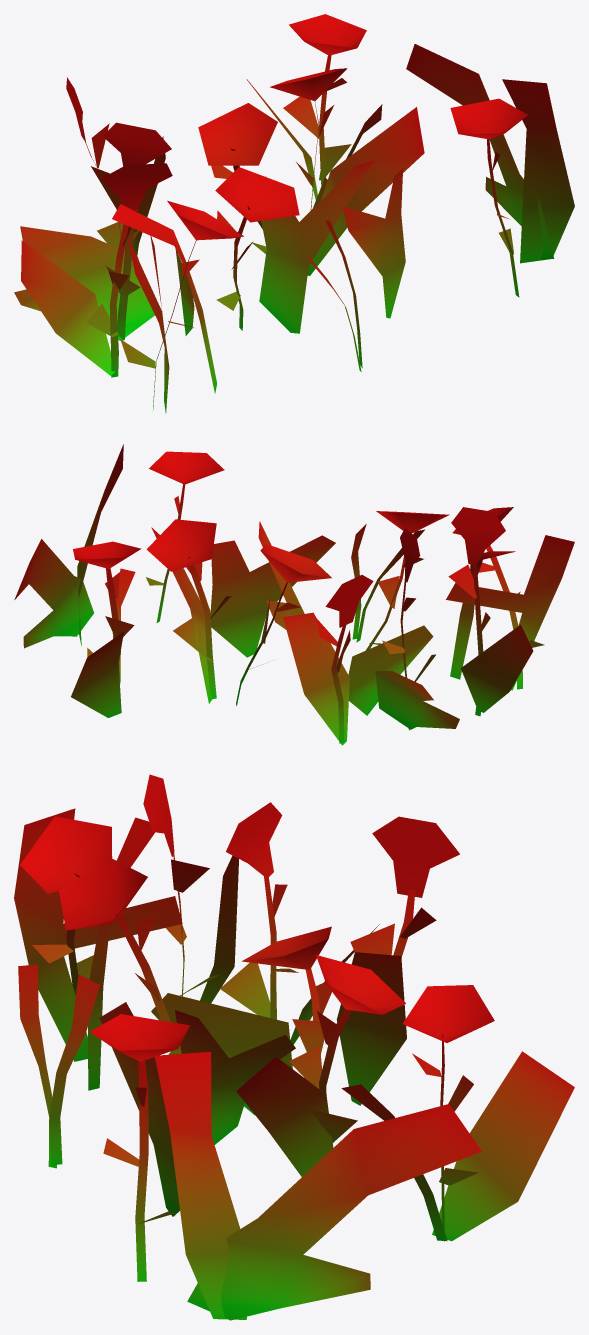
Rendered from Var9_LOD2.fbx.
3 renders of one model, top to bottom at view 1: azimuth 30°, elevation 25°; view 2: azimuth 150°, elevation 25°; view 3: azimuth 270°, elevation 25°, orthographic. The views are drawn at different scales.
Visible parts, largest first — view 1: _9d9f_Var9_LOD2; view 2: _9d9f_Var9_LOD2; view 3: _9d9f_Var9_LOD2.
Boxes of the visible parts, <box> form: _9d9f_Var9_LOD2: <box>14,14,574,413</box>; _9d9f_Var9_LOD2: <box>14,444,574,745</box>; _9d9f_Var9_LOD2: <box>14,774,574,1320</box>.
Size of the model in its own units: 15.72 by 6.5 by 11.55.
